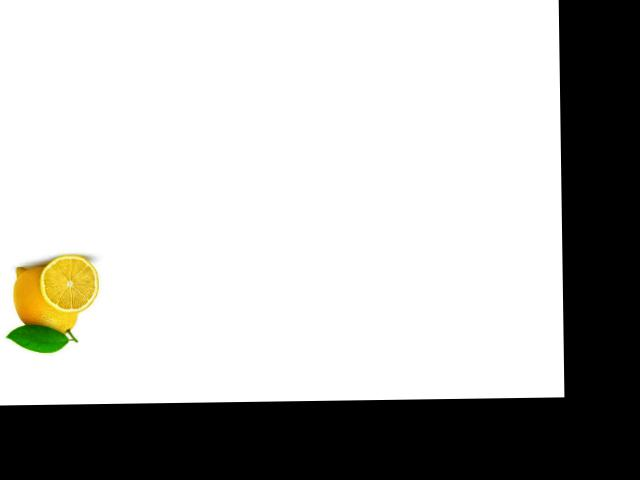lemon: (5, 258, 82, 345)
